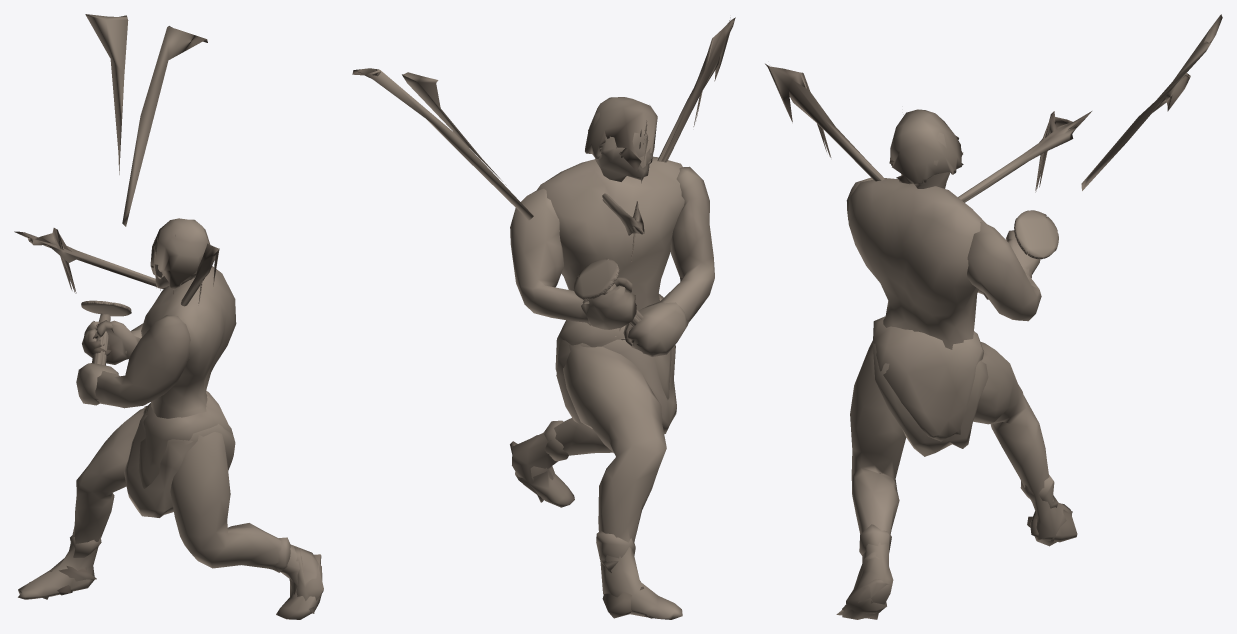
File: uruk_berserker.glb
3 views of the same model, side by side, from view 1: azimuth 30°, elevation 25°; view 2: azimuth 150°, elevation 25°; view 3: azimuth 270°, elevation 25° (orthographic). The views are drawn at different scales.
Visible parts, largest first — view 1: geometry_0; view 2: geometry_0; view 3: geometry_0.
Part boxes in pixels (x1,y1,x2,y2): geometry_0: [14, 14, 323, 619]; geometry_0: [352, 17, 735, 619]; geometry_0: [765, 14, 1222, 619].
Bounding box in the file's own units: 0.9847 × 1.95 × 1.41.
